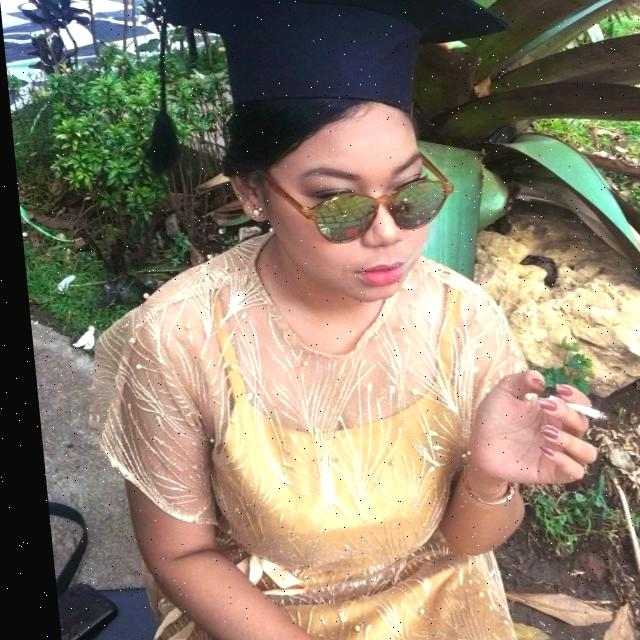cigarette: (540, 394, 600, 421)
